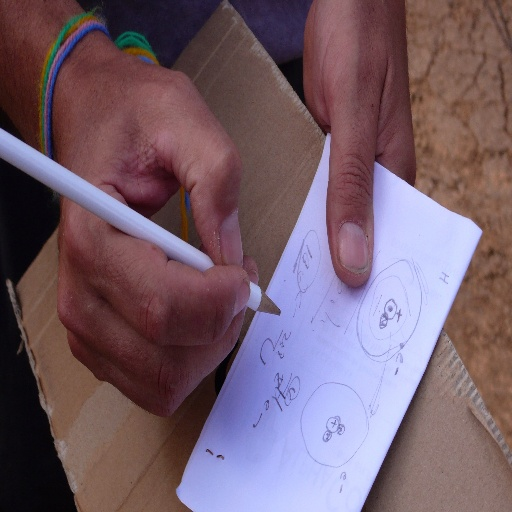hand: (56, 46, 261, 420), (289, 0, 430, 297)
